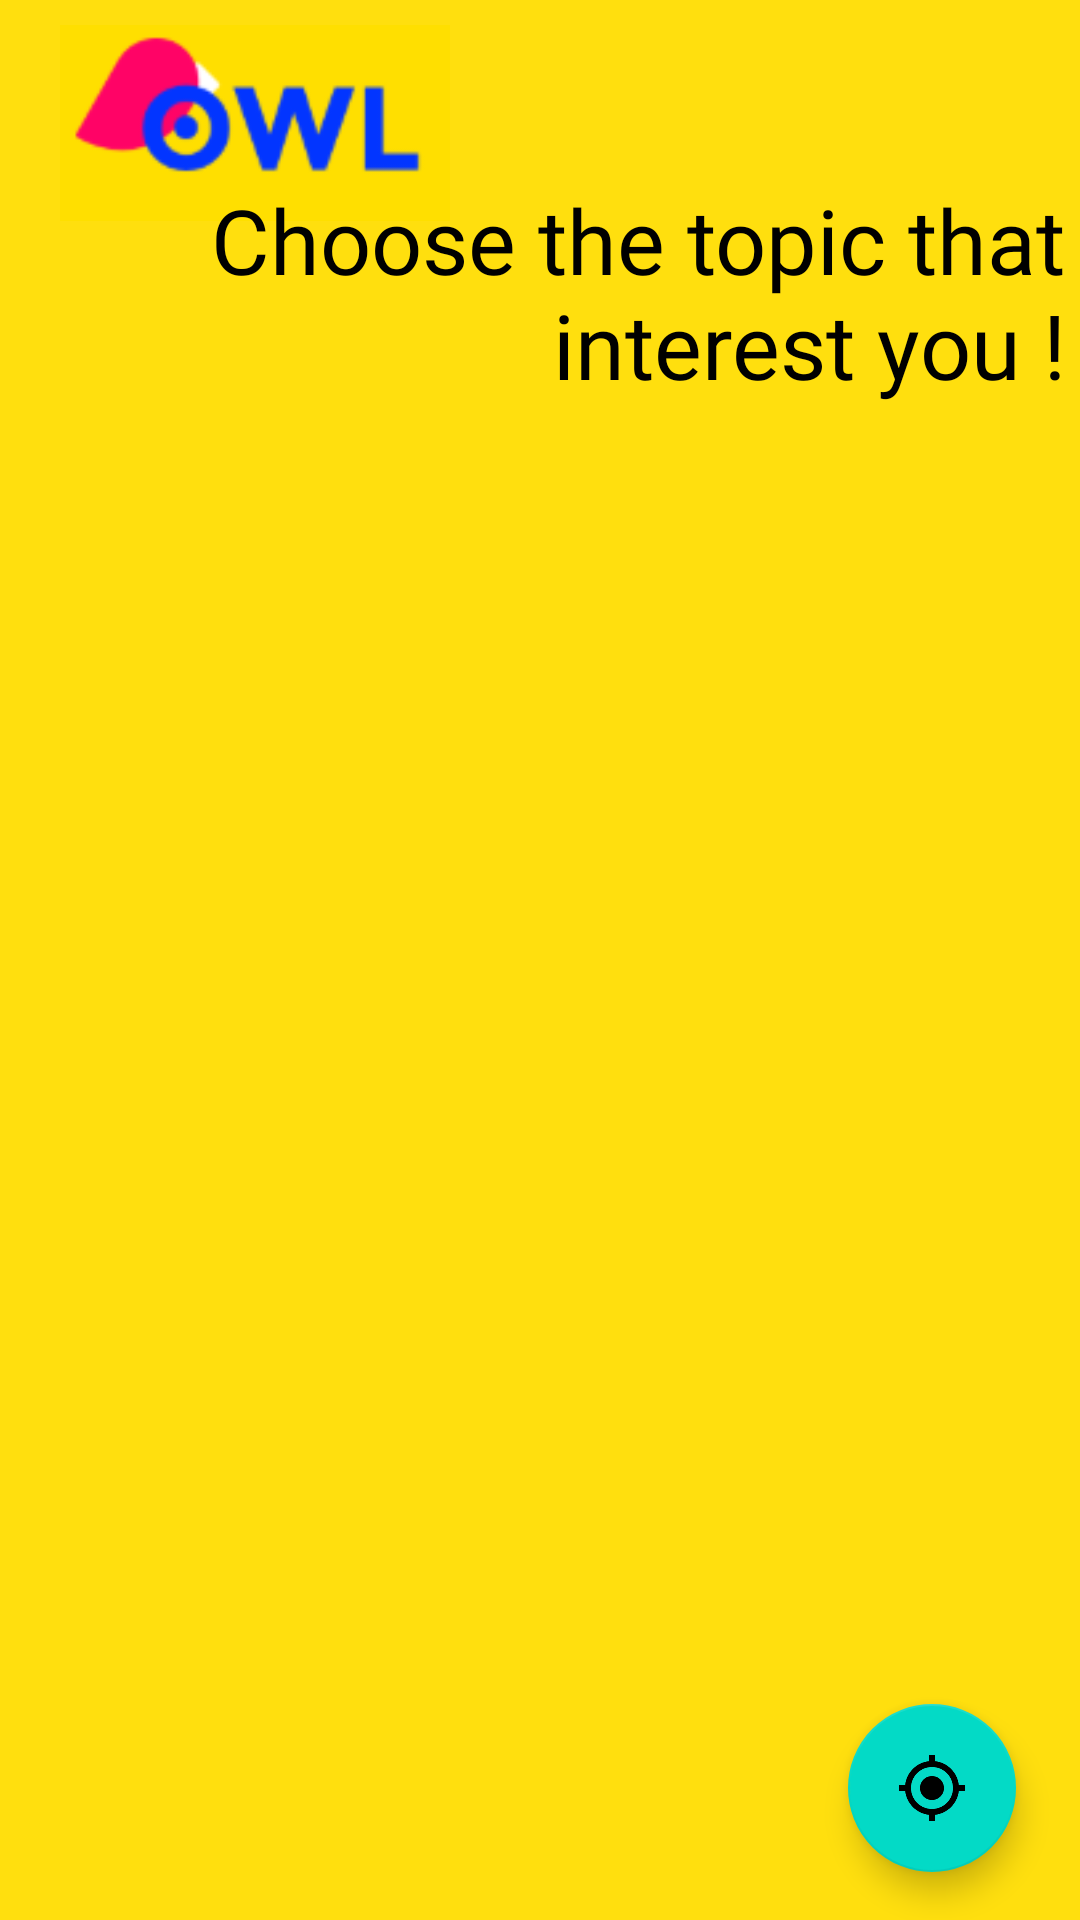

Icons on this 1080x1920 Android screen, each with its box as box(x1, y1, x2, y2):
gps fixed: box(848, 1704, 1016, 1872)
